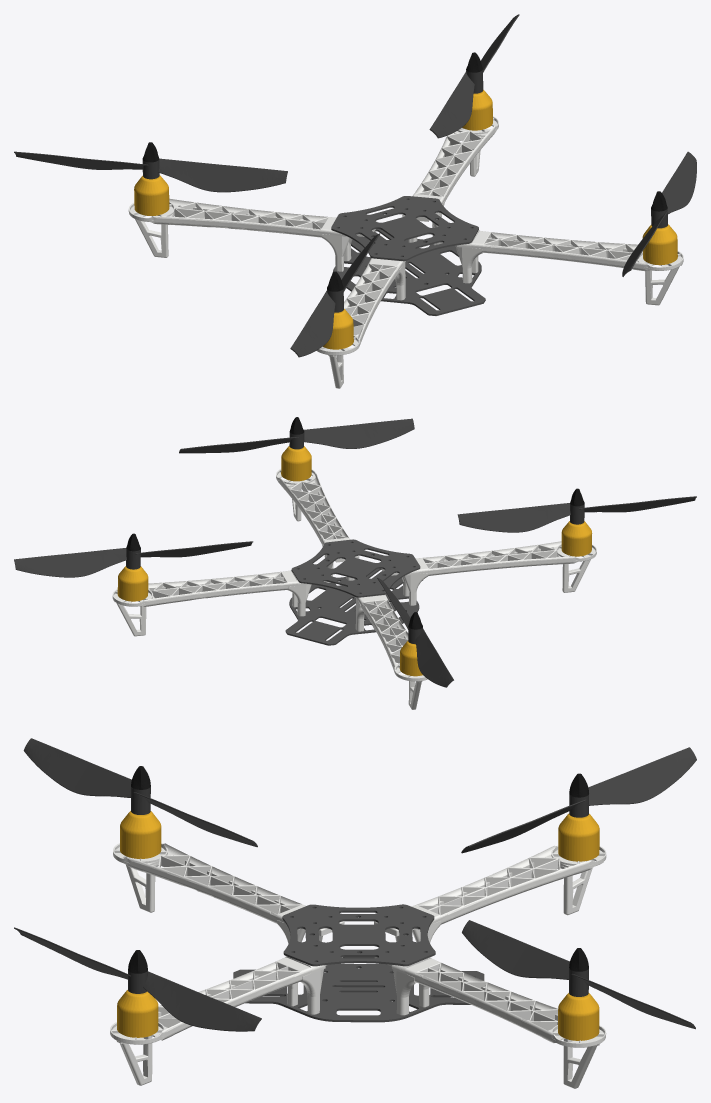
The model's file is quad450.glb.
The picture shows the model from 3 angles, top to bottom: view 1: azimuth 30°, elevation 25°; view 2: azimuth 150°, elevation 25°; view 3: azimuth 270°, elevation 25°; orthographic projection. The views are drawn at different scales.
Visible parts, largest first — view 1: frame__0__m0, braco__4__m0, braco__2__m0, pdb__0__m0, helice__4__m1, braco__3__m0, braco__1__m0, helice__1__m0, helice__3__m0, helice__2__m1, motor__4__m0, motor__2__m0 (+2 smaller); view 2: frame__0__m0, braco__3__m0, braco__1__m0, pdb__0__m0, helice__3__m0, helice__1__m0, helice__2__m1, braco__4__m0, braco__2__m0, helice__4__m1, motor__1__m0, motor__3__m0 (+2 smaller); view 3: frame__0__m0, braco__1__m0, pdb__0__m0, braco__4__m0, braco__3__m0, braco__2__m0, helice__2__m1, helice__1__m0, helice__3__m0, helice__4__m1, motor__4__m0, motor__1__m0 (+2 smaller).
Boxes of the visible parts, bbox=[...] form: frame__0__m0: bbox=[331, 196, 478, 261]; braco__4__m0: bbox=[128, 198, 377, 271]; braco__2__m0: bbox=[437, 230, 683, 305]; pdb__0__m0: bbox=[333, 229, 485, 315]; helice__4__m1: bbox=[14, 151, 287, 192]; braco__3__m0: bbox=[316, 258, 405, 388]; braco__1__m0: bbox=[402, 116, 498, 245]; helice__1__m0: bbox=[429, 14, 519, 138]; helice__3__m0: bbox=[290, 233, 379, 357]; helice__2__m1: bbox=[622, 151, 696, 276]; motor__4__m0: bbox=[134, 175, 169, 215]; motor__2__m0: bbox=[642, 224, 677, 265]; frame__0__m0: bbox=[291, 539, 420, 597]; braco__3__m0: bbox=[381, 541, 596, 605]; braco__1__m0: bbox=[112, 570, 326, 636]; pdb__0__m0: bbox=[285, 568, 422, 645]; helice__3__m0: bbox=[457, 496, 696, 532]; helice__1__m0: bbox=[14, 541, 253, 577]; helice__2__m1: bbox=[179, 418, 414, 453]; braco__4__m0: bbox=[355, 594, 427, 709]; braco__2__m0: bbox=[276, 469, 359, 582]; helice__4__m1: bbox=[377, 577, 453, 687]; motor__1__m0: bbox=[117, 566, 148, 601]; motor__3__m0: bbox=[561, 521, 592, 556]; frame__0__m0: bbox=[282, 904, 435, 966]; braco__1__m0: bbox=[374, 957, 606, 1088]; pdb__0__m0: bbox=[233, 953, 484, 1022]; braco__4__m0: bbox=[374, 845, 606, 942]; braco__3__m0: bbox=[113, 843, 344, 943]; braco__2__m0: bbox=[110, 956, 342, 1085]; helice__2__m1: bbox=[14, 927, 261, 1031]; helice__1__m0: bbox=[462, 920, 695, 1029]; helice__3__m0: bbox=[23, 738, 257, 847]; helice__4__m1: bbox=[461, 747, 696, 853]; motor__4__m0: bbox=[558, 813, 599, 861]; motor__1__m0: bbox=[558, 993, 599, 1040].
Bounding box in the file's own units: 0.5026 × 0.1176 × 0.4955.
